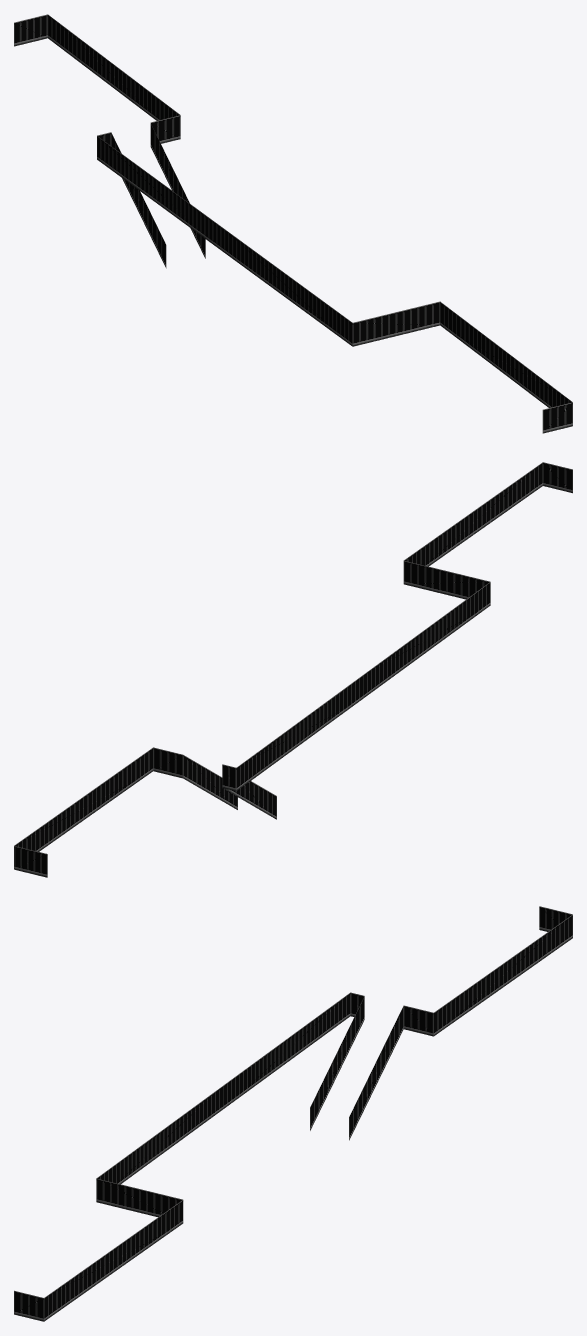
Rendered from vlla_innfnc1_lvs.obj.
The picture shows the model from 3 angles, top to bottom: view 1: azimuth 30°, elevation 25°; view 2: azimuth 150°, elevation 25°; view 3: azimuth 330°, elevation 25°; orthographic projection.
Visible parts, largest first — view 1: vlla_innfnc1_lvs; view 2: vlla_innfnc1_lvs; view 3: vlla_innfnc1_lvs.
Boxes of the visible parts, <box> form: vlla_innfnc1_lvs: <box>14,14,572,433</box>; vlla_innfnc1_lvs: <box>14,462,572,877</box>; vlla_innfnc1_lvs: <box>14,906,572,1321</box>.
Bounding box in the file's own units: 3.82 × 4.02 × 40.
Materials: 1 (1 with a texture image).
